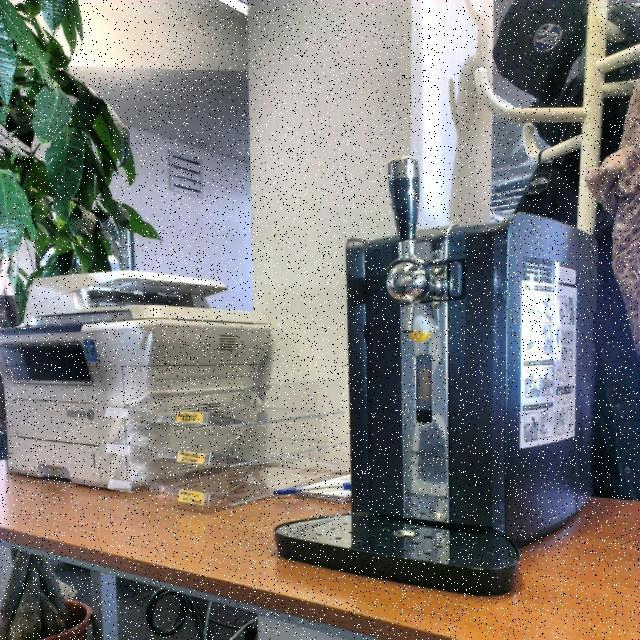Coffee-Machine: (269, 135, 607, 605)
